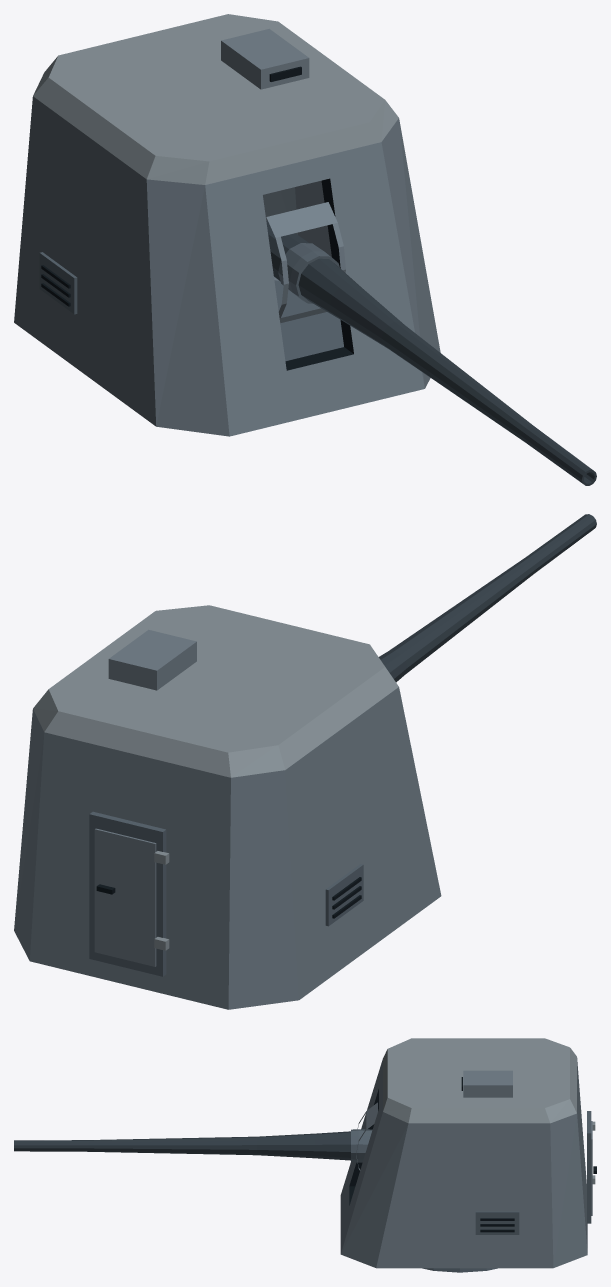
3 renders of one model, top to bottom at view 1: azimuth 30°, elevation 25°; view 2: azimuth 150°, elevation 25°; view 3: azimuth 270°, elevation 25°, orthographic. The views are drawn at different scales.
Visible parts, largest first — view 1: base, barrel; view 2: base, barrel; view 3: base, barrel.
Boxes of the visible parts, x1,y1,x2,y2 form: base: (14, 14, 440, 436); barrel: (266, 202, 596, 485); base: (14, 605, 441, 1009); barrel: (379, 514, 596, 682); base: (340, 1038, 596, 1272); barrel: (14, 1102, 377, 1170).
Size of the model in its own units: 3.39 by 3.11 by 9.37.
